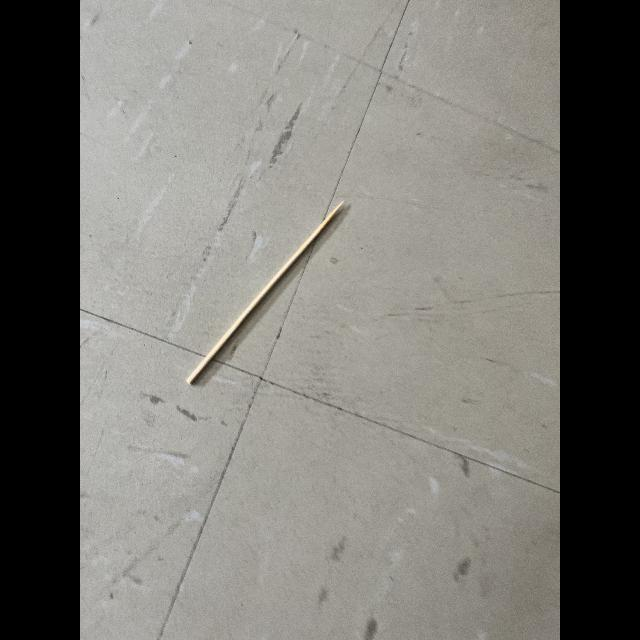stick: (182, 192, 352, 400)
